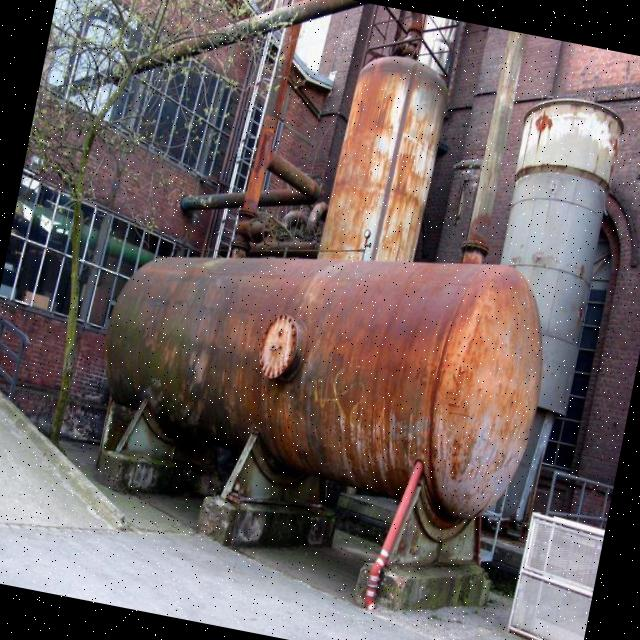Corrosion: (82, 187, 564, 537)
